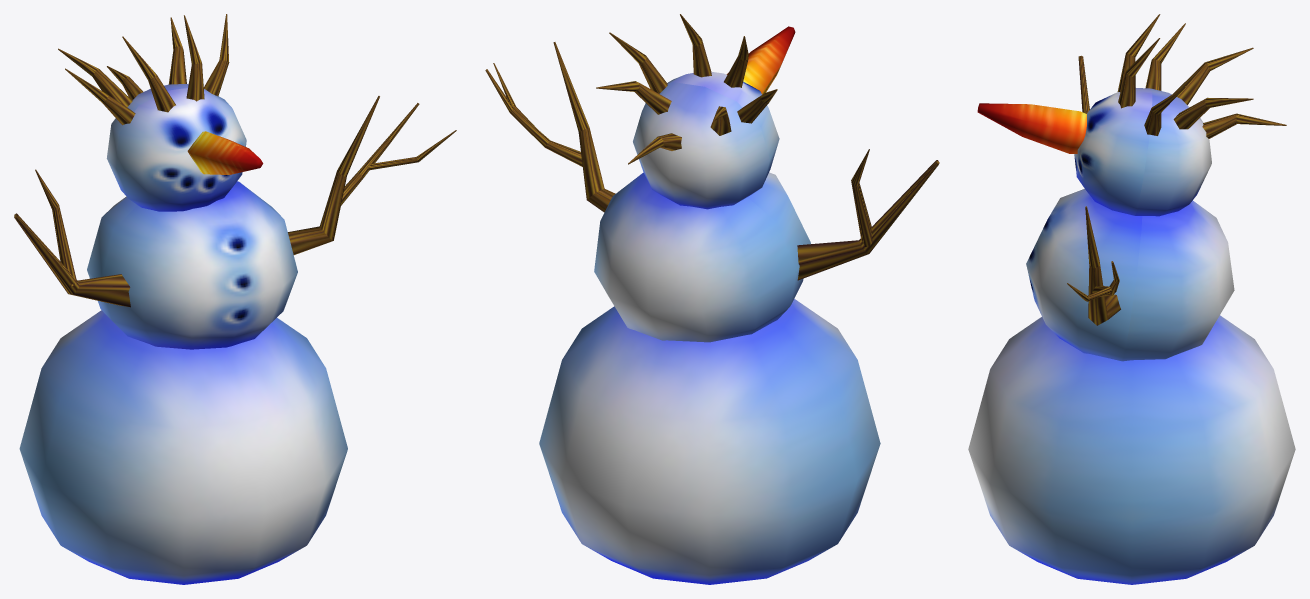
Rendered from Personage_Snowman1.FBX.
3 views of the same model, side by side, from view 1: azimuth 30°, elevation 25°; view 2: azimuth 150°, elevation 25°; view 3: azimuth 270°, elevation 25° (orthographic). The views are drawn at different scales.
Visible parts, largest first — view 1: Body1; view 2: Body1; view 3: Body1.
Part boxes in pixels (bbox=[...]): Body1: bbox=[14, 14, 456, 584]; Body1: bbox=[485, 14, 939, 584]; Body1: bbox=[968, 14, 1295, 584].
Size of the model in its own units: 65.21 by 73.14 by 42.59.
